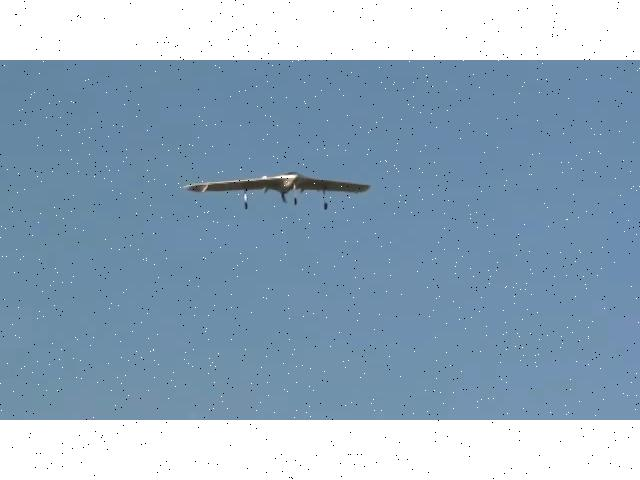Anti-Drone: (184, 173, 368, 193)
